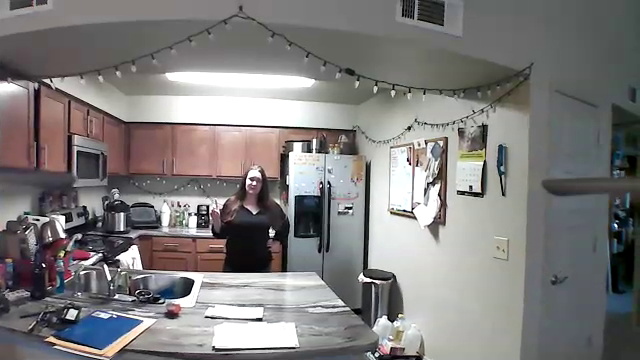up: (206, 194, 224, 220)
